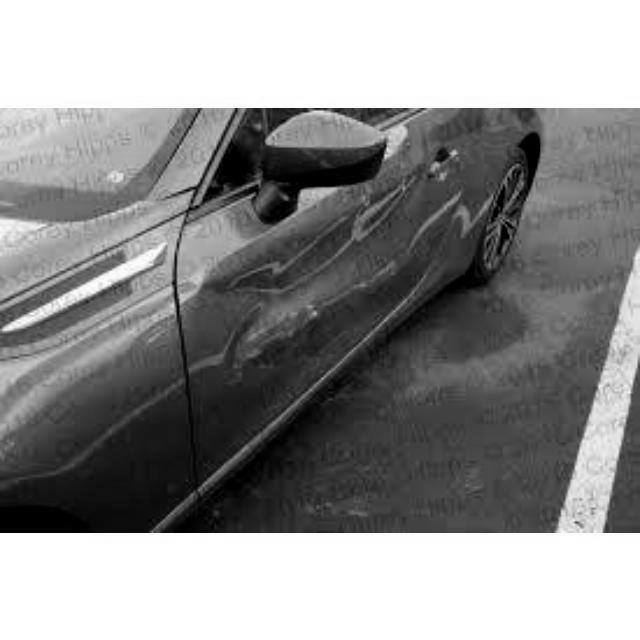doorouter-dent: (182, 221, 391, 425)
